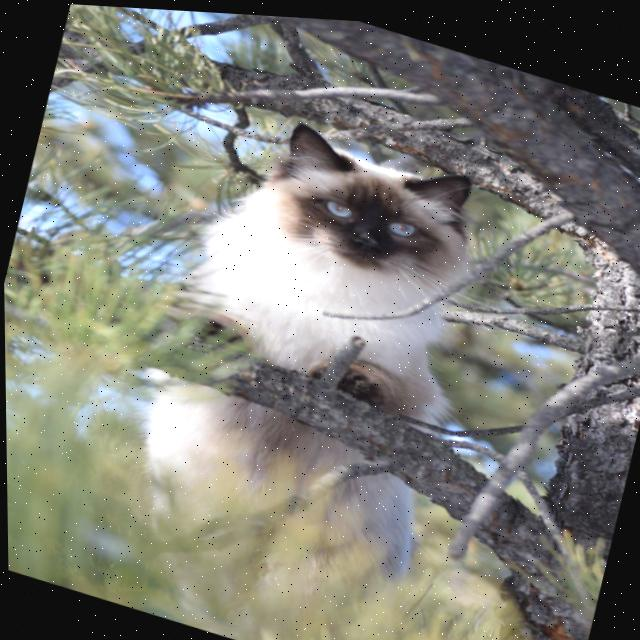Neva Masquerade: (82, 74, 522, 640)
